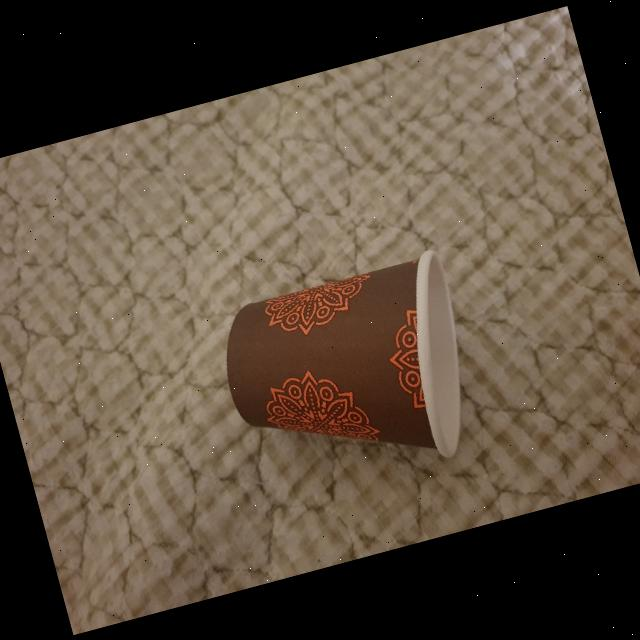trash: (200, 234, 497, 511)
